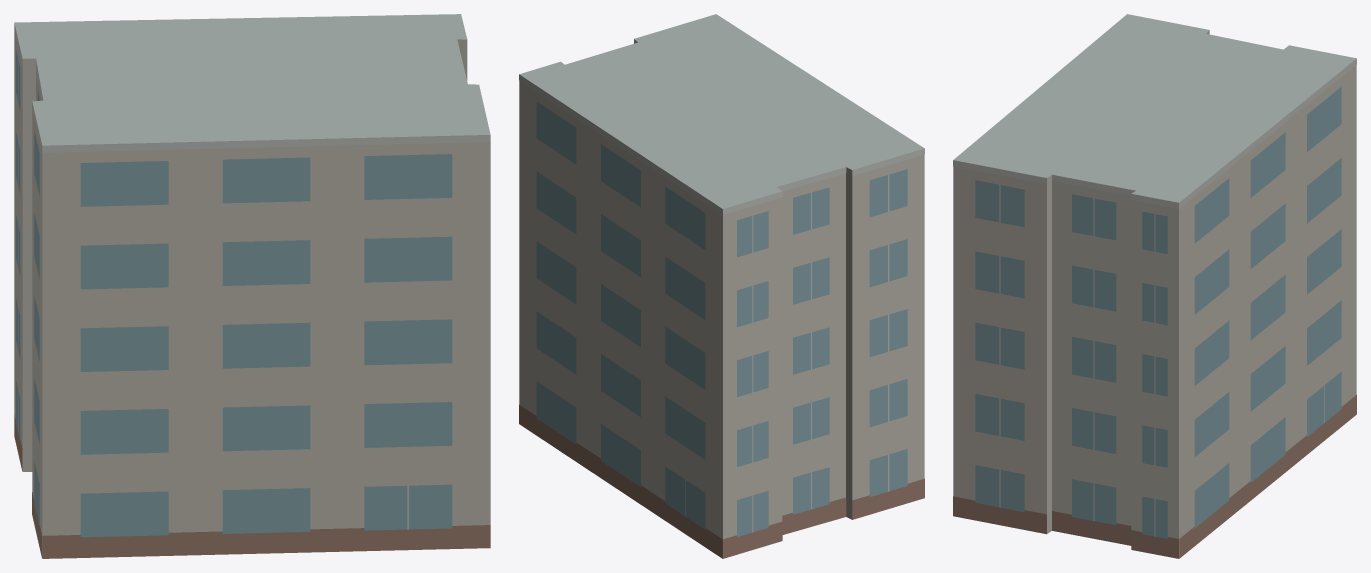
The model's file is survey-upis-32890127.glb.
3 renders of one model, left to right at view 1: azimuth 30°, elevation 25°; view 2: azimuth 150°, elevation 25°; view 3: azimuth 270°, elevation 25°, orthographic. The views are drawn at different scales.
Parts seen in each view (by area): view 1: survey-upis-32890127.tmp; view 2: survey-upis-32890127.tmp; view 3: survey-upis-32890127.tmp.
Part boxes in pixels (x1,y1,x2,y2): survey-upis-32890127.tmp: (14,14,490,558); survey-upis-32890127.tmp: (519,14,924,558); survey-upis-32890127.tmp: (953,14,1356,558).
Bounding box in the file's own units: 15.81 × 13.9 × 14.29.
